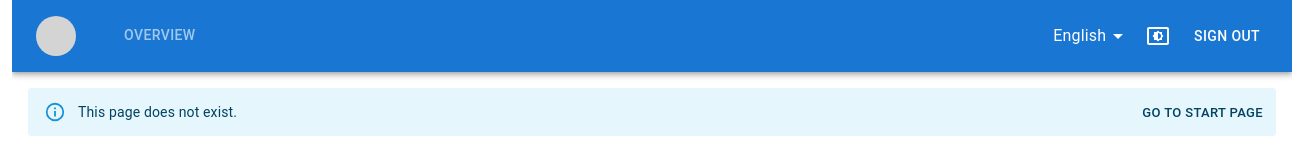
Test case: createAppRouter › pages that cannot be shown › goes to the start page from the notice
The width and height of the screenshot is (1292, 160).
Expected: the message "This page does not exist. Go to start page" is shown, [28, 88, 1276, 136]
Click the link with test id "core.home-button".
click(1203, 112)  # box [1142, 105, 1263, 120]
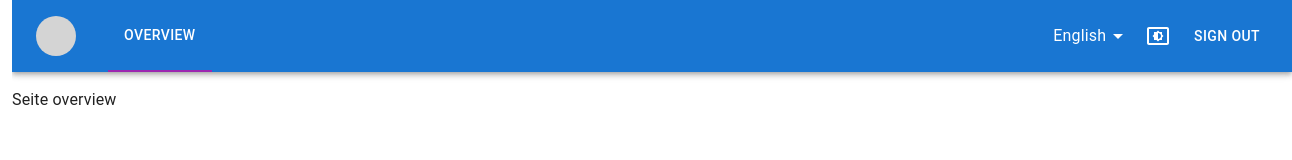
Now the text "Seite overview" is shown, box [12, 90, 116, 109]
